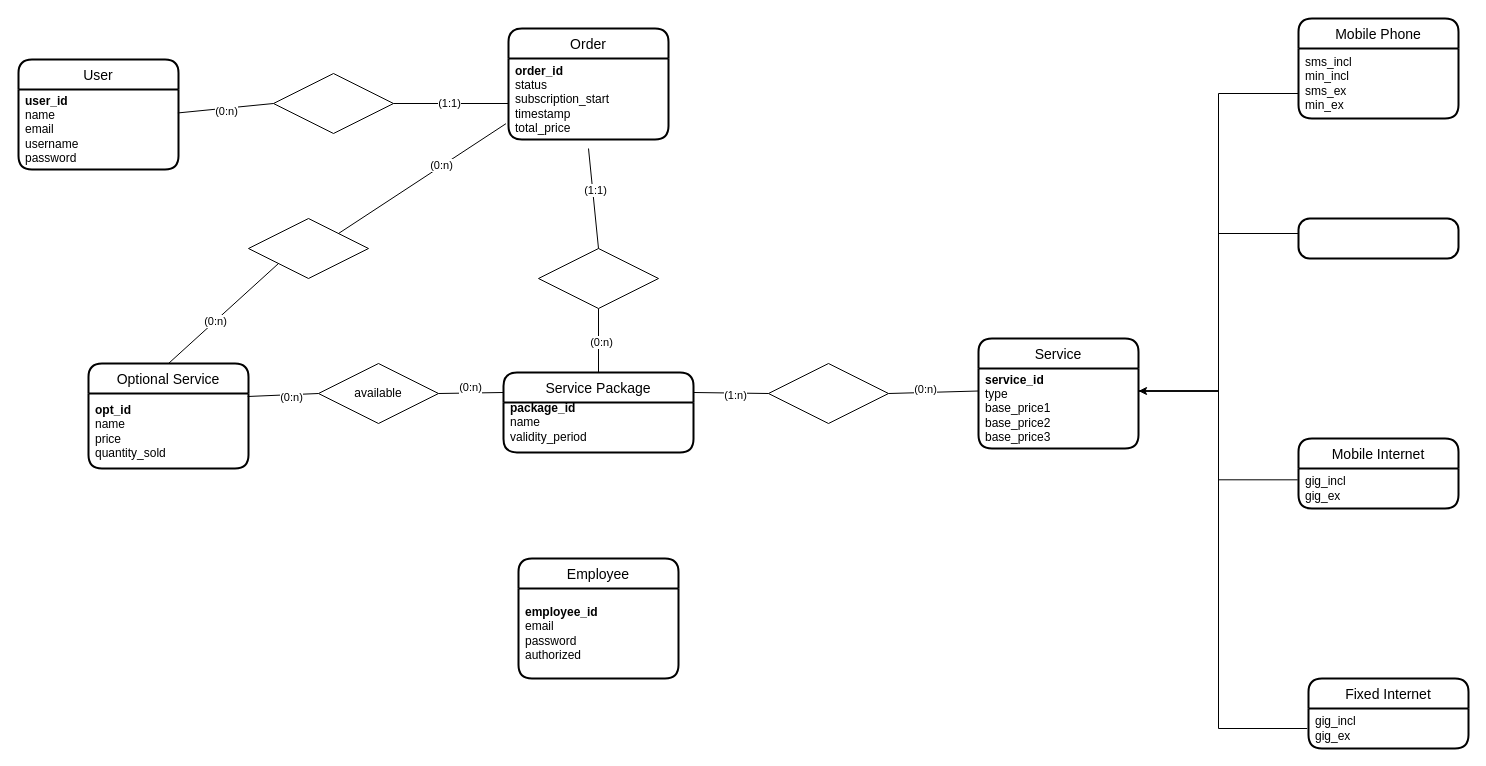
Image size: 1486x766. Some labels were removed from this diagram. Here are the shapes that lost their labels. From the top down, the centre of each, then its label:
(x=333, y=103): places
(x=308, y=248): Purchase
(x=1378, y=238): Fixed Phone
(x=598, y=278): contains
(x=828, y=393): bundles
